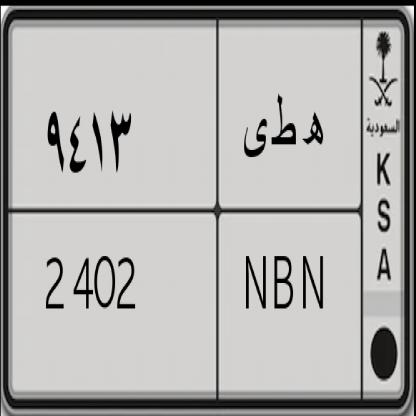english: (2, 203, 366, 400)
